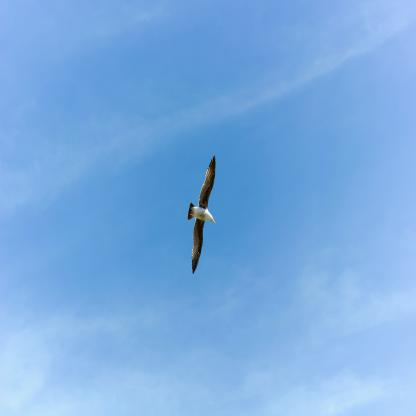bird: (187, 156, 217, 274)
